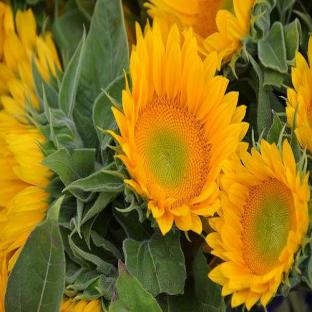sunflower: (111, 18, 250, 236)
